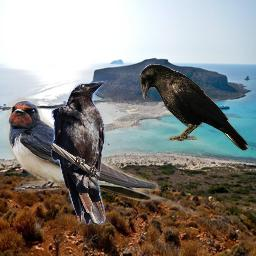Crow: (140, 64, 250, 151), (51, 80, 106, 225)
Swallow: (6, 97, 203, 216)
